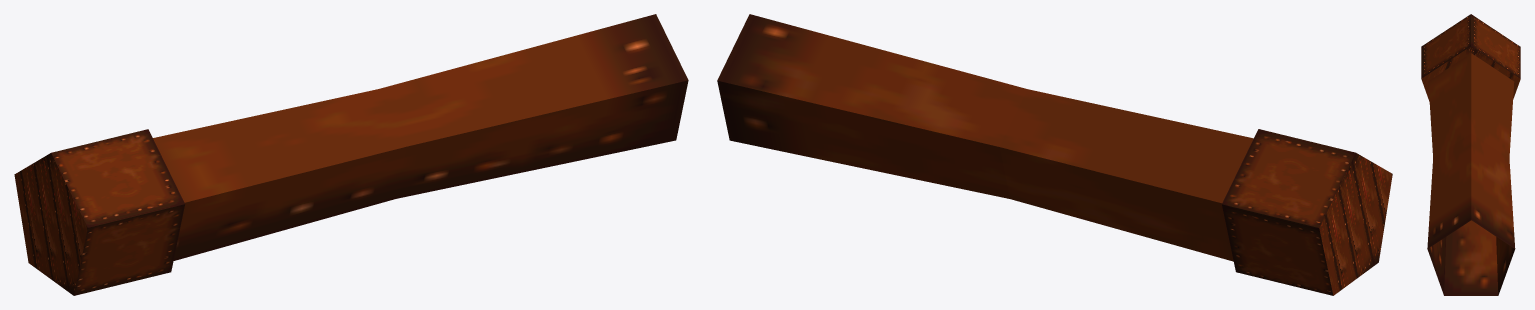
Rendered from Rohr_StückDünn [Rostig]_1815.glb.
3 views of the same model, side by side, from view 1: azimuth 30°, elevation 25°; view 2: azimuth 150°, elevation 25°; view 3: azimuth 270°, elevation 25° (orthographic). The views are drawn at different scales.
Visible parts, largest first — view 1: pCylinderShape79, pCylinderShape80; view 2: pCylinderShape79, pCylinderShape80; view 3: pCylinderShape79, pCylinderShape80.
Boxes of the visible parts, x1=… form: pCylinderShape79: x1=153, y1=14, x2=688, y2=260; pCylinderShape80: x1=14, y1=129, x2=184, y2=295; pCylinderShape79: x1=717, y1=14, x2=1253, y2=261; pCylinderShape80: x1=1222, y1=129, x2=1392, y2=295; pCylinderShape79: x1=1427, y1=53, x2=1515, y2=295; pCylinderShape80: x1=1421, y1=14, x2=1520, y2=101.
Size of the model in its own units: 0.545 by 0.109 by 0.1145.
Materials: 2 (2 with a texture image).
